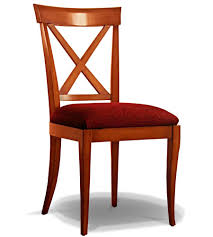tiyarina: (29, 2, 182, 236)
